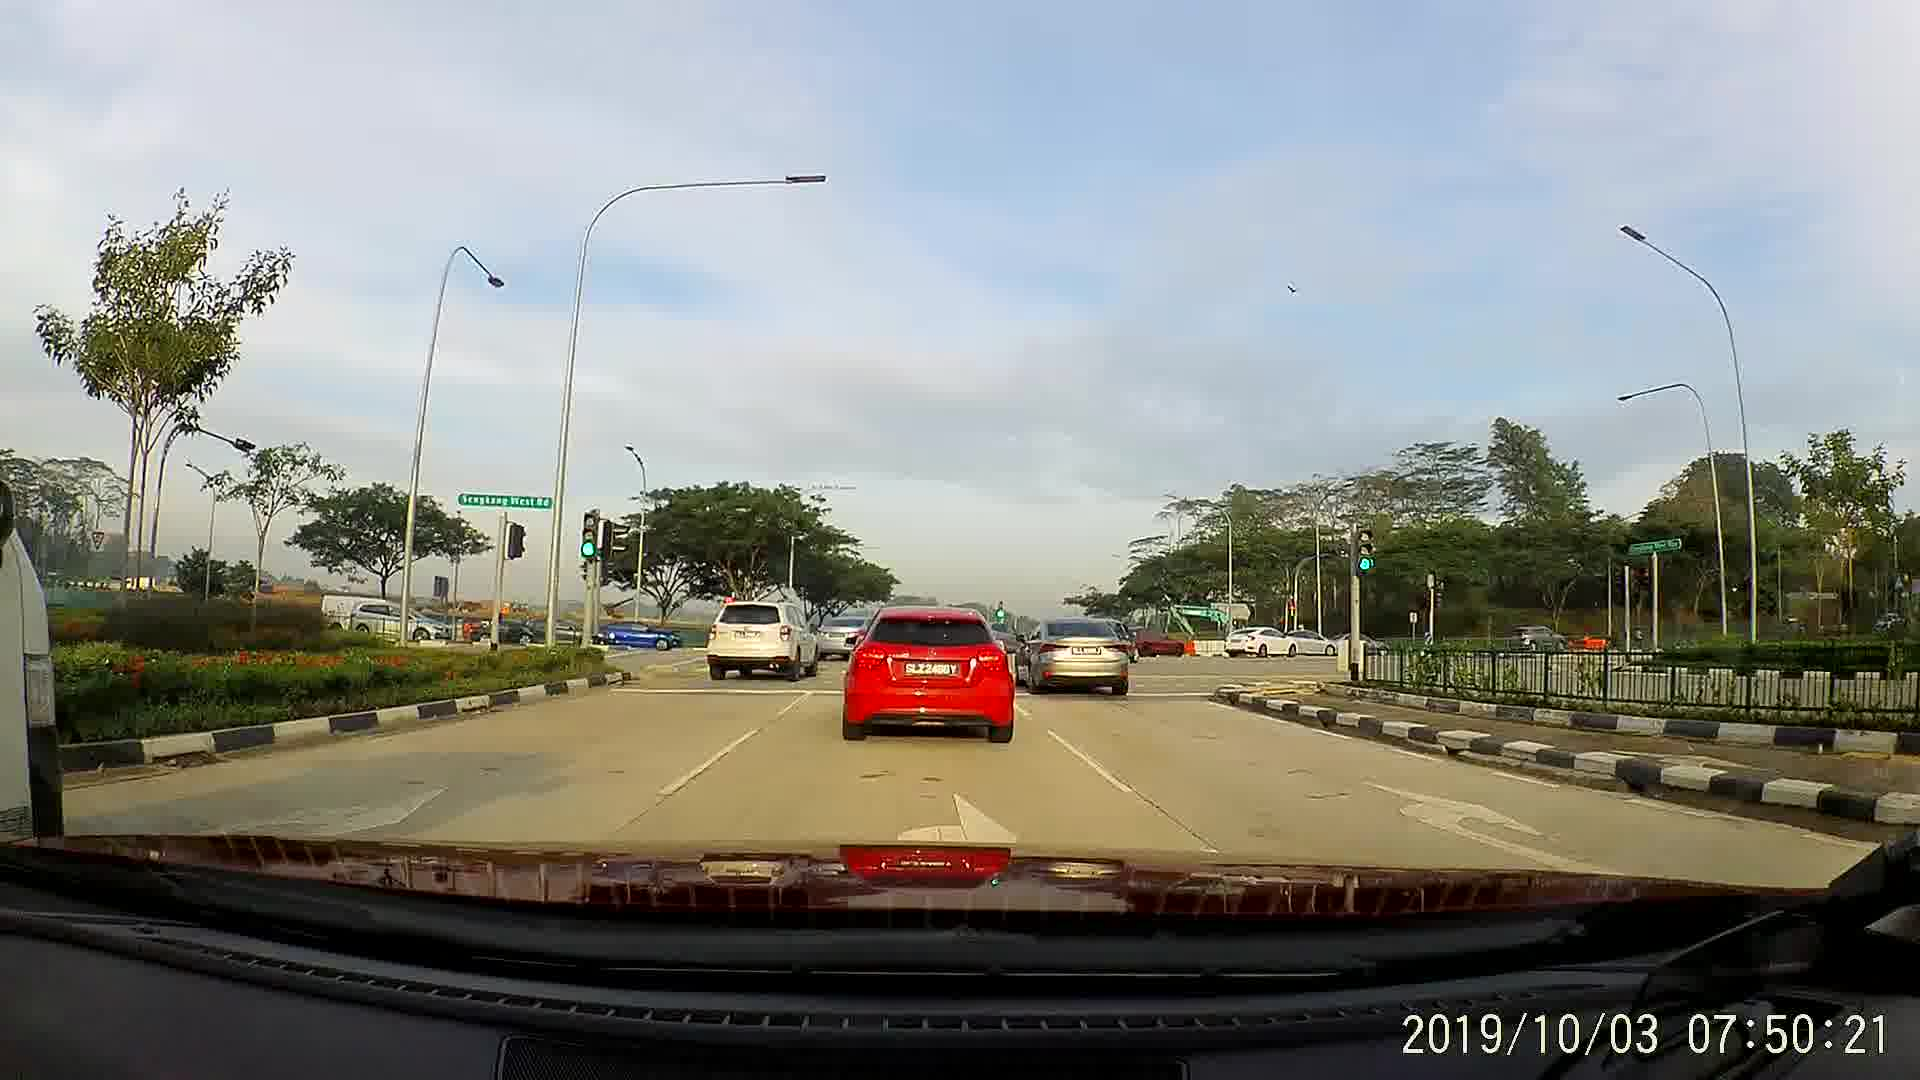car: (843, 600, 1017, 746), (700, 588, 819, 694), (1017, 616, 1131, 696), (344, 611, 452, 645), (462, 616, 558, 650), (1222, 621, 1298, 658), (597, 622, 687, 650), (810, 621, 870, 661), (1507, 622, 1575, 658), (1135, 632, 1184, 659)
